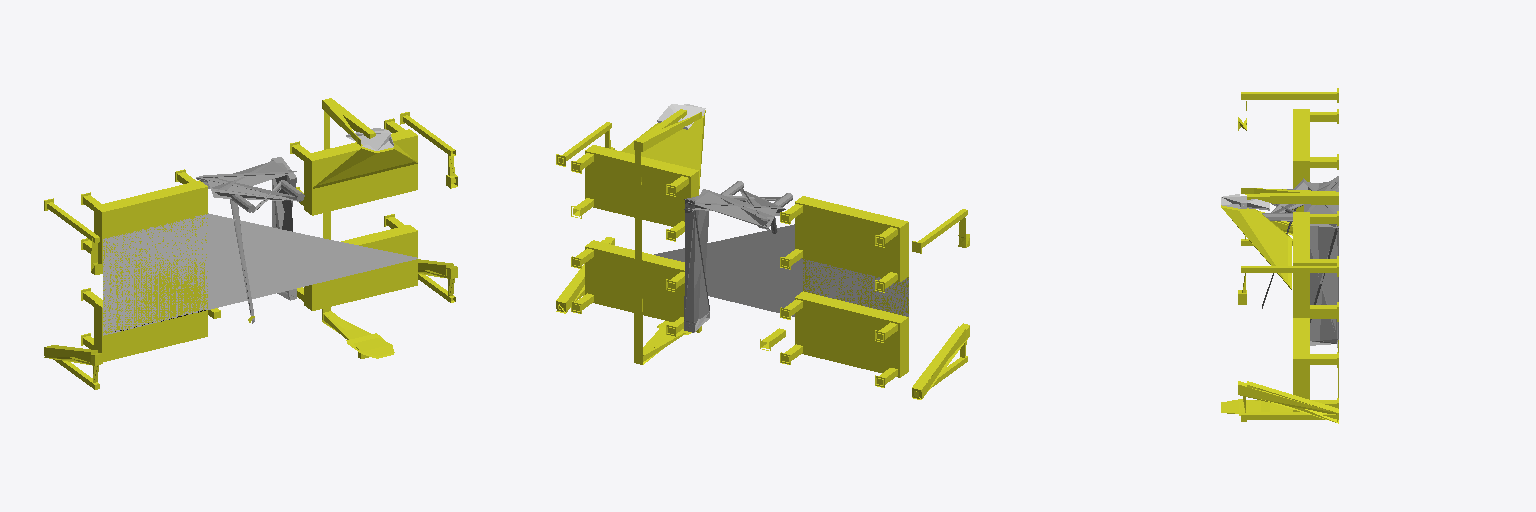
File: k_and_c_machine_base.obj
The picture shows the model from 3 angles: view 1: azimuth 30°, elevation 25°; view 2: azimuth 150°, elevation 25°; view 3: azimuth 270°, elevation 25°; orthographic projection.
Parts seen in each view (by area): view 1: (null); view 2: (null); view 3: (null).
Boxes of the visible parts, x1,y1,x2,y2 form: (null): [44, 98, 457, 389]; (null): [556, 104, 969, 399]; (null): [1221, 88, 1338, 423].
Size of the model in its own units: 6.01 by 3.49 by 1.67.